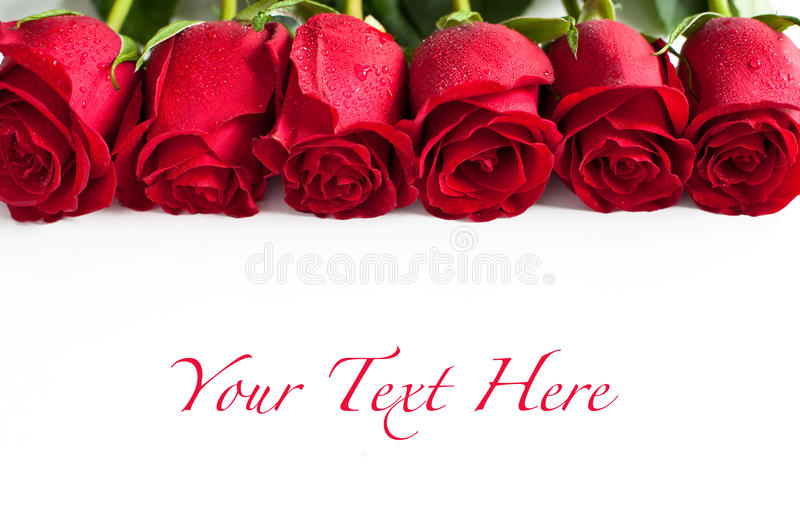RedRose: (540, 33, 689, 221), (287, 15, 412, 222), (433, 33, 556, 221), (685, 10, 800, 198), (9, 30, 125, 213), (168, 31, 273, 216)
